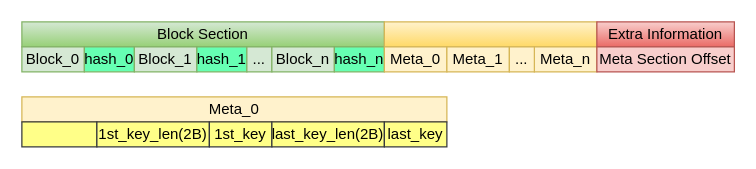
The diagram is 756 pixels wide and 169 high, and some of its shapes have lost their labels. Each missing label, with the centre of its shape:
"Meta Section" goes at point 490,34.
"offset(4B)" goes at point 59,134.
